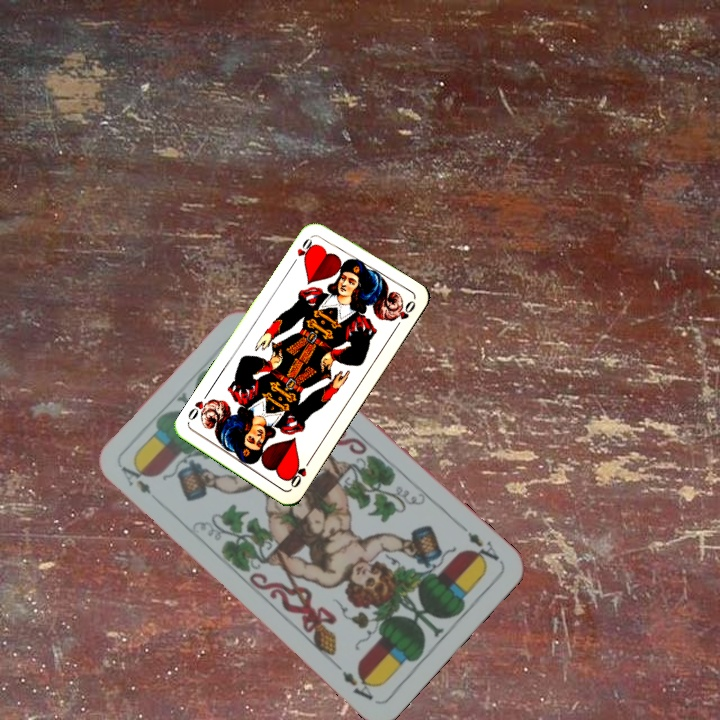EA: (455, 520, 502, 569), (116, 461, 154, 497)
HO: (285, 455, 314, 491), (293, 231, 316, 263)
